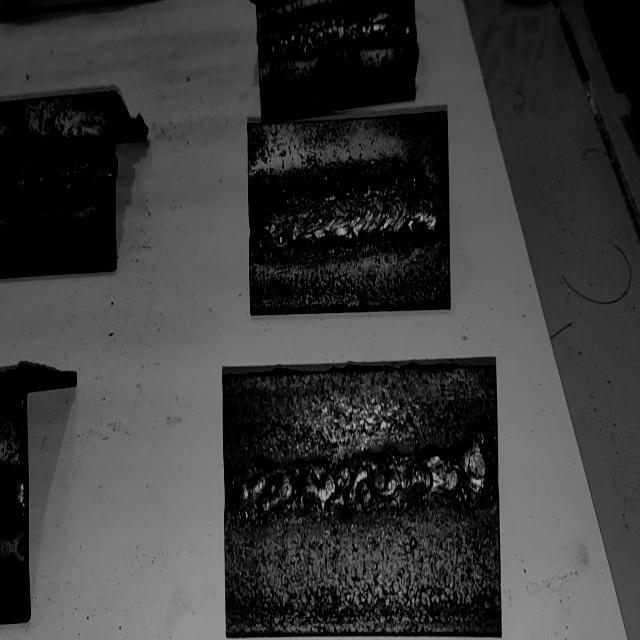Defect: (0, 146, 111, 202), (262, 2, 364, 62)
Welding Line: (226, 451, 498, 516), (249, 190, 442, 250), (264, 8, 410, 52), (0, 150, 116, 205)
Workpiece: (222, 367, 504, 640), (245, 116, 452, 316), (0, 86, 119, 282), (256, 0, 418, 125)
